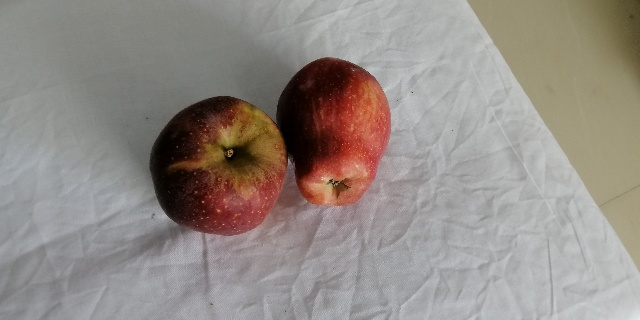apple_kashmir: (147, 101, 287, 234), (277, 55, 392, 213)
